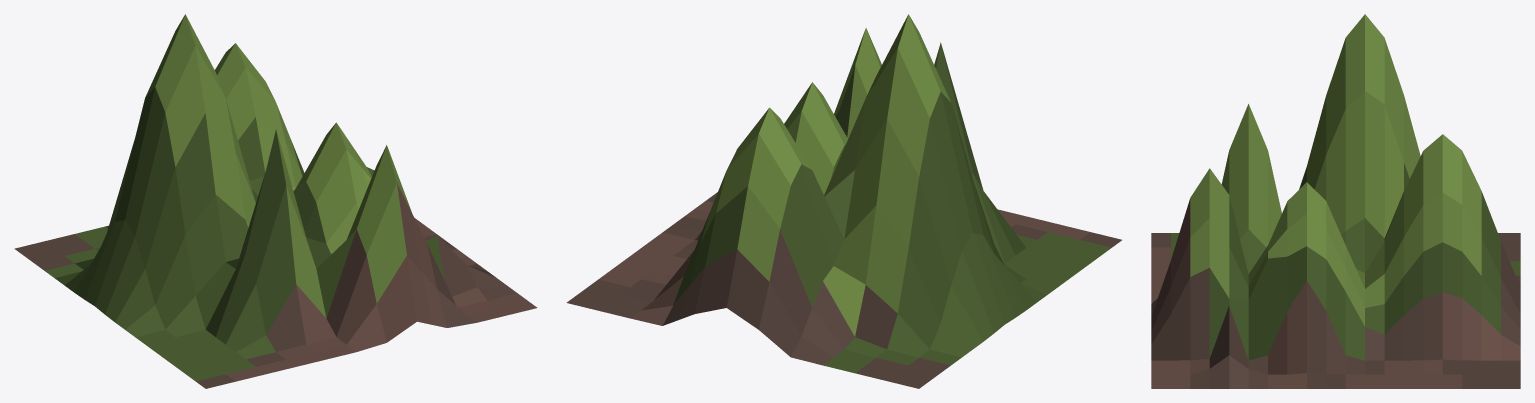
File: MountainRange.fbx
3 views of the same model, side by side, from view 1: azimuth 30°, elevation 25°; view 2: azimuth 150°, elevation 25°; view 3: azimuth 270°, elevation 25° (orthographic). The views are drawn at different scales.
Parts seen in each view (by area): view 1: MountainRange; view 2: MountainRange; view 3: MountainRange.
Boxes of the visible parts, <box> form: MountainRange: <box>14,14,537,388</box>; MountainRange: <box>566,14,1121,388</box>; MountainRange: <box>1151,14,1520,388</box>.
Bounding box in the file's own units: 6519 × 5099 × 6519.
